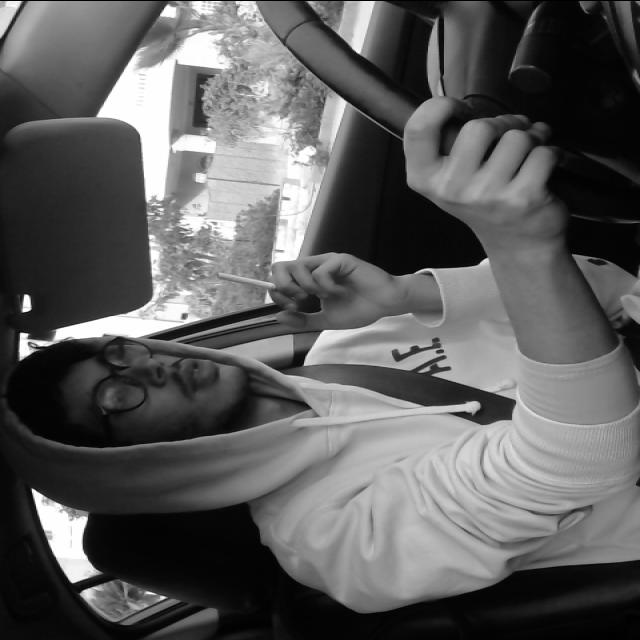smoking: (212, 271, 308, 294)
